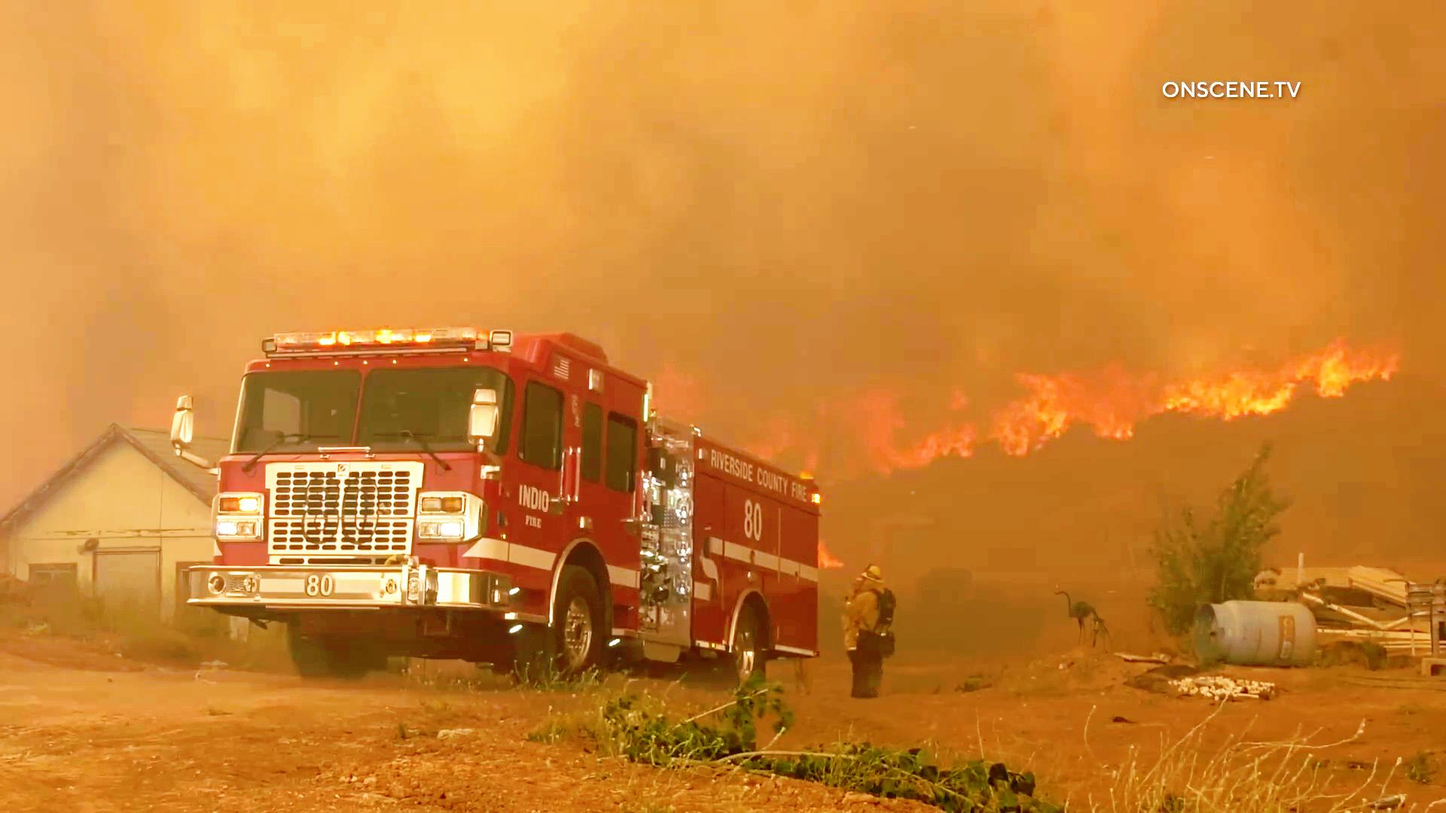fire: (1213, 260, 1412, 410), (937, 356, 1163, 473)
smoke: (539, 4, 895, 253), (968, 137, 1225, 270)
